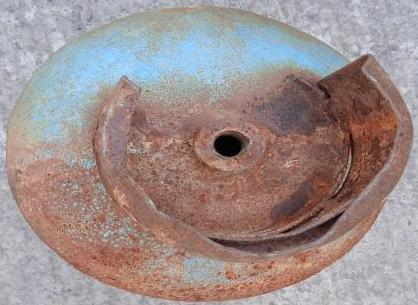cylinder: (1, 1, 418, 305)
